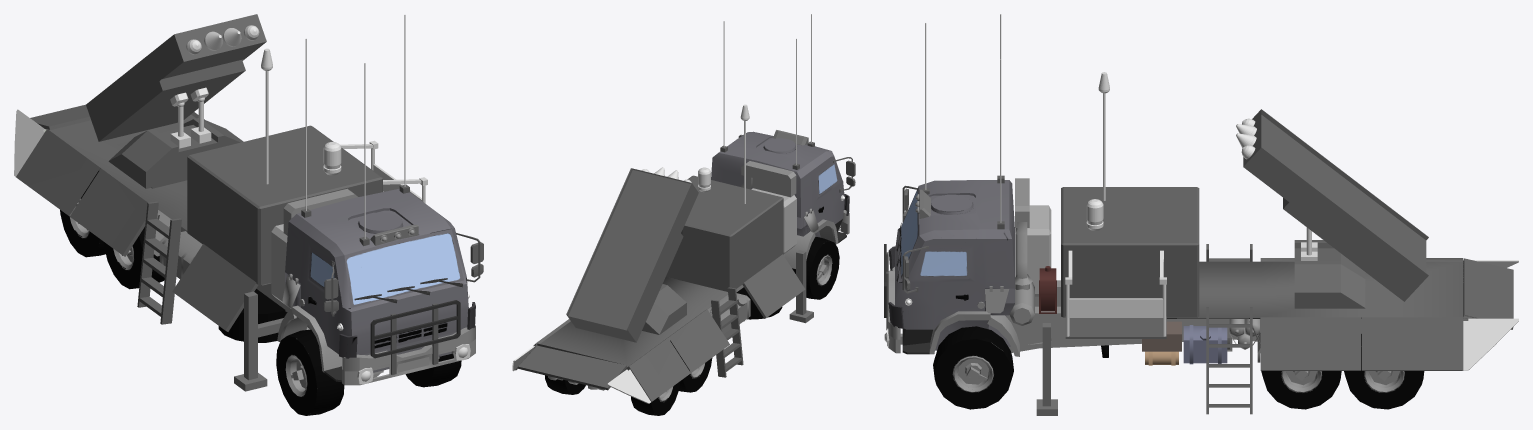
The picture shows the model from 3 angles, left to right: view 1: azimuth 30°, elevation 25°; view 2: azimuth 150°, elevation 25°; view 3: azimuth 270°, elevation 25°; orthographic projection. The views are drawn at different scales.
Visible parts, largest first — view 1: Куб.131, Куб.136, Cube, Cube.002, Цилиндр.051, Cube.001, Cube.008, Куб.096, Cube.016, Cube.007, Цилиндр.053, Cube.011 (+17 smaller); view 2: Куб.136, Cube.002, Cube, Куб.131, Цилиндр.051, Cube.008, Цилиндр.059, Cube.001, Цилиндр.001, Cube.015, Cube.016, Cube.011 (+6 smaller); view 3: Куб.136, Cube, Куб.131, Cube.002, Цилиндр.051, Cube.001, Цилиндр.001, Цилиндр.053, Цилиндр.059, Куб.118, Cube.018, Cube.015 (+12 smaller).
Boxes of the visible parts, box(x1,y1,x2,y2) form: Куб.131: box(285, 188, 475, 372); Куб.136: box(16, 104, 270, 331); Cube: box(187, 125, 382, 285); Cube.002: box(86, 14, 266, 141); Цилиндр.051: box(276, 329, 461, 415); Cube.001: box(108, 118, 243, 188); Cube.008: box(137, 201, 181, 324); Куб.096: box(342, 325, 475, 385); Cube.016: box(234, 291, 283, 391); Cube.007: box(370, 300, 460, 358); Цилиндр.053: box(103, 226, 164, 289); Cube.011: box(14, 109, 45, 176); Куб.136: box(515, 254, 805, 401); Cube.002: box(566, 168, 698, 342); Cube: box(666, 175, 783, 291); Куб.131: box(711, 131, 849, 237); Цилиндр.051: box(792, 237, 839, 299); Cube.008: box(711, 287, 743, 377); Цилиндр.059: box(740, 161, 796, 197); Cube.001: box(642, 284, 686, 334); Цилиндр.001: box(545, 375, 680, 415); Cube.015: box(751, 188, 796, 253); Cube.016: box(789, 250, 813, 323); Cube.011: box(607, 369, 650, 403); Куб.136: box(1065, 258, 1513, 370); Cube: box(1061, 187, 1199, 317); Куб.131: box(888, 180, 1014, 350); Cube.002: box(1243, 109, 1428, 301); Цилиндр.051: box(933, 326, 1013, 409); Cube.001: box(1294, 240, 1365, 308); Цилиндр.001: box(1344, 334, 1424, 409); Цилиндр.053: box(1261, 371, 1341, 409); Цилиндр.059: box(1009, 178, 1034, 325); Куб.118: box(1006, 280, 1468, 352); Cube.018: box(1068, 298, 1163, 317); Cube.015: box(1015, 205, 1051, 296).
Size of the model in its own units: 709 by 1202 by 2029.
